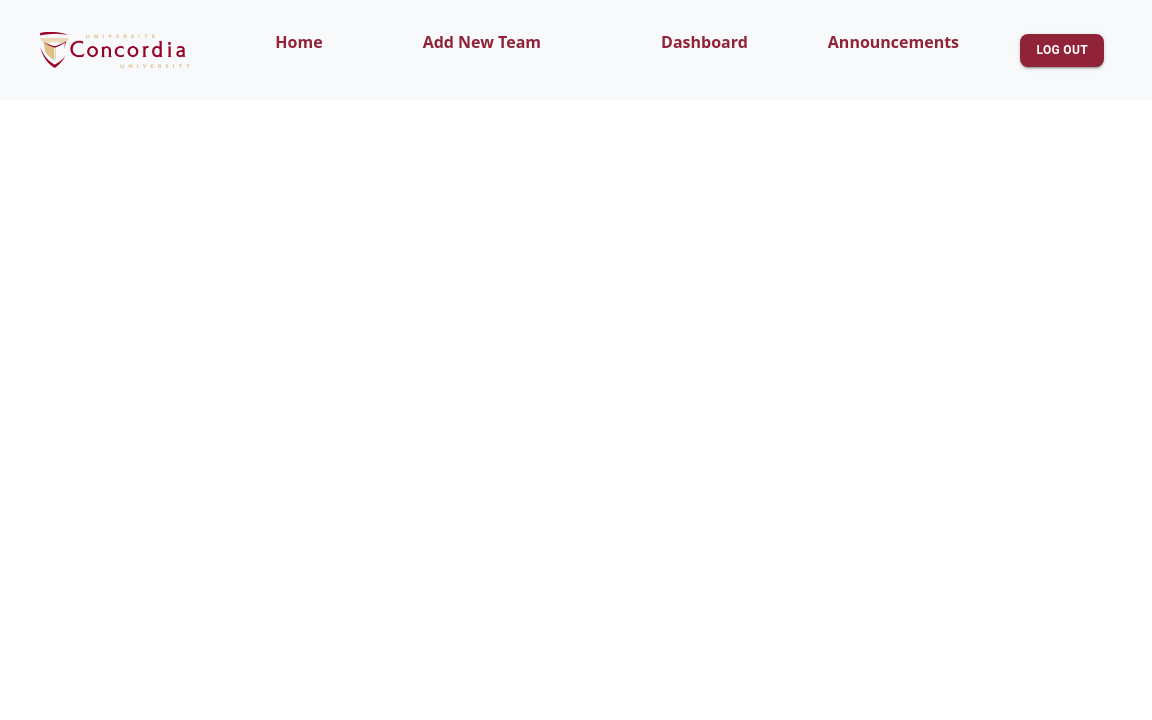
Test case: Teams Page › displays the Add Team modal when the button is clicked
Click the button "Add New Team" at (482, 42), box [423,31,541,53]
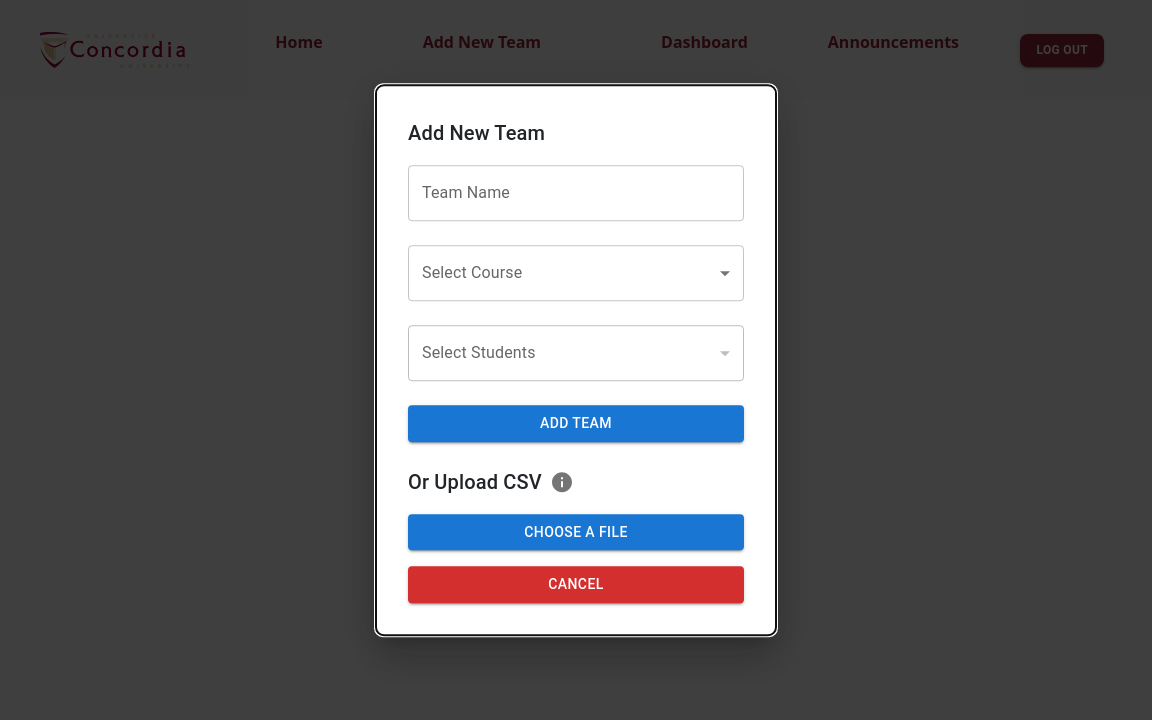
Now the button "Add Team" is shown, box [408,405,744,442]
